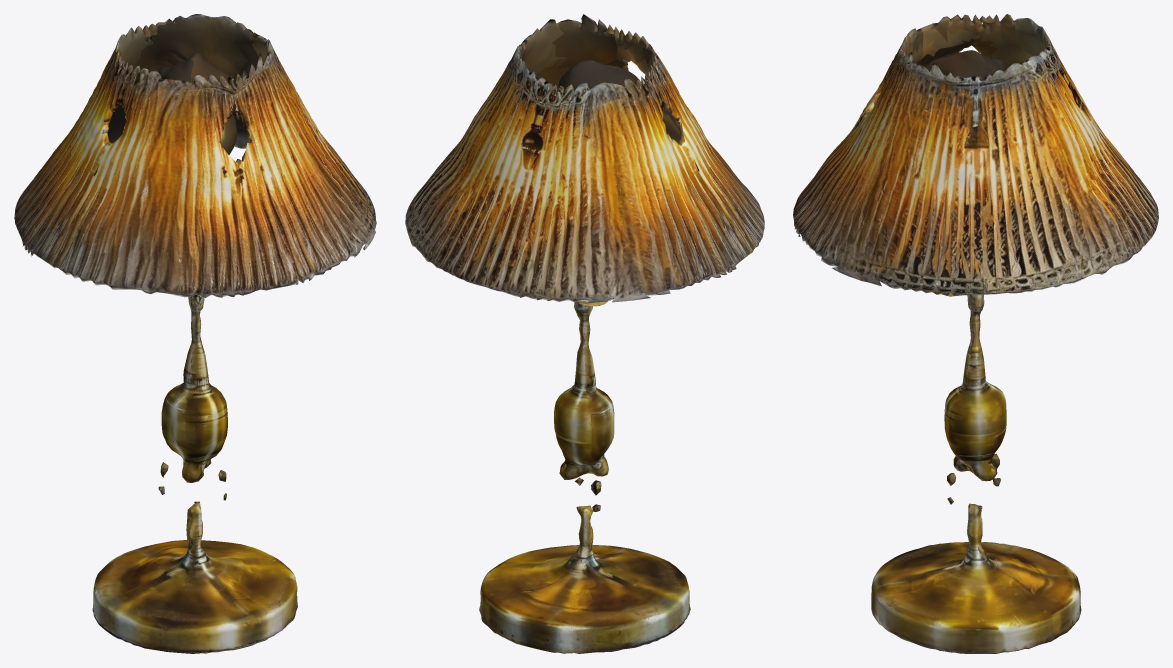
Rendered from lamp 5.glb.
3 views of the same model, side by side, from view 1: azimuth 30°, elevation 25°; view 2: azimuth 150°, elevation 25°; view 3: azimuth 270°, elevation 25° (orthographic).
Visible parts, largest first — view 1: Object_4; view 2: Object_4; view 3: Object_4.
Boxes of the visible parts, x1=… form: Object_4: x1=14, y1=14, x2=376, y2=653; Object_4: x1=405, y1=14, x2=764, y2=653; Object_4: x1=793, y1=14, x2=1158, y2=653.
Bounding box in the file's own units: 0.5773 × 1 × 0.5762.
Materials: 1 (1 with a texture image).
